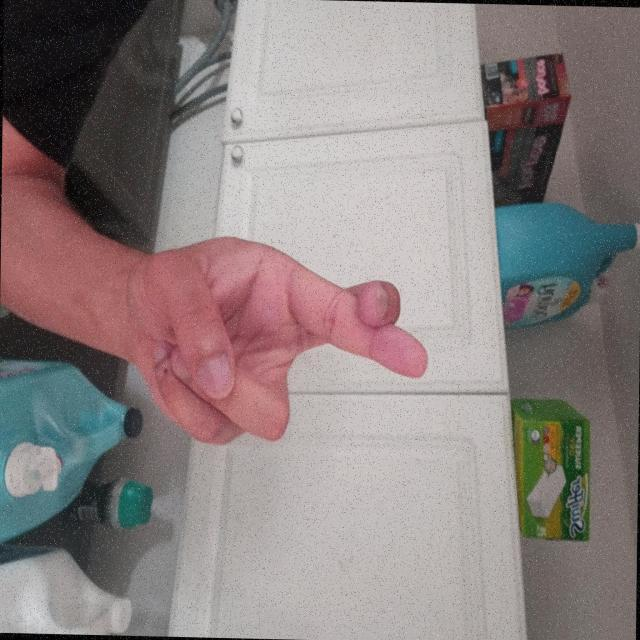R: (330, 276, 501, 640)
